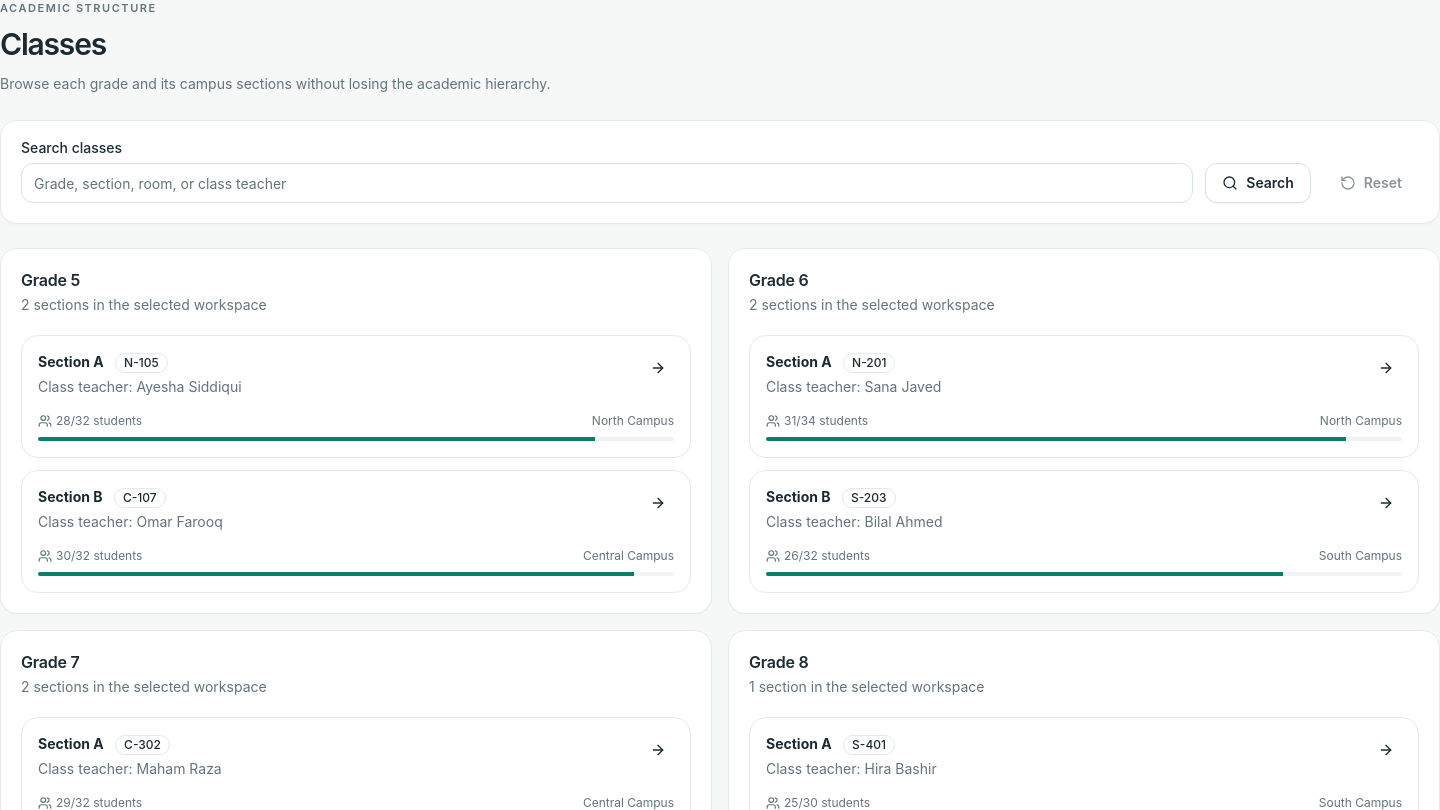
Test: class hierarchy › groups sections beneath their grade and supports search
Expected: the text "Grade 5" is shown, [21, 270, 80, 290]
Expected: the text "Section A" is shown, [38, 354, 168, 374]
Type "N-501" into the field labelled "Search classes" at (607, 184), box [21, 164, 1193, 204]
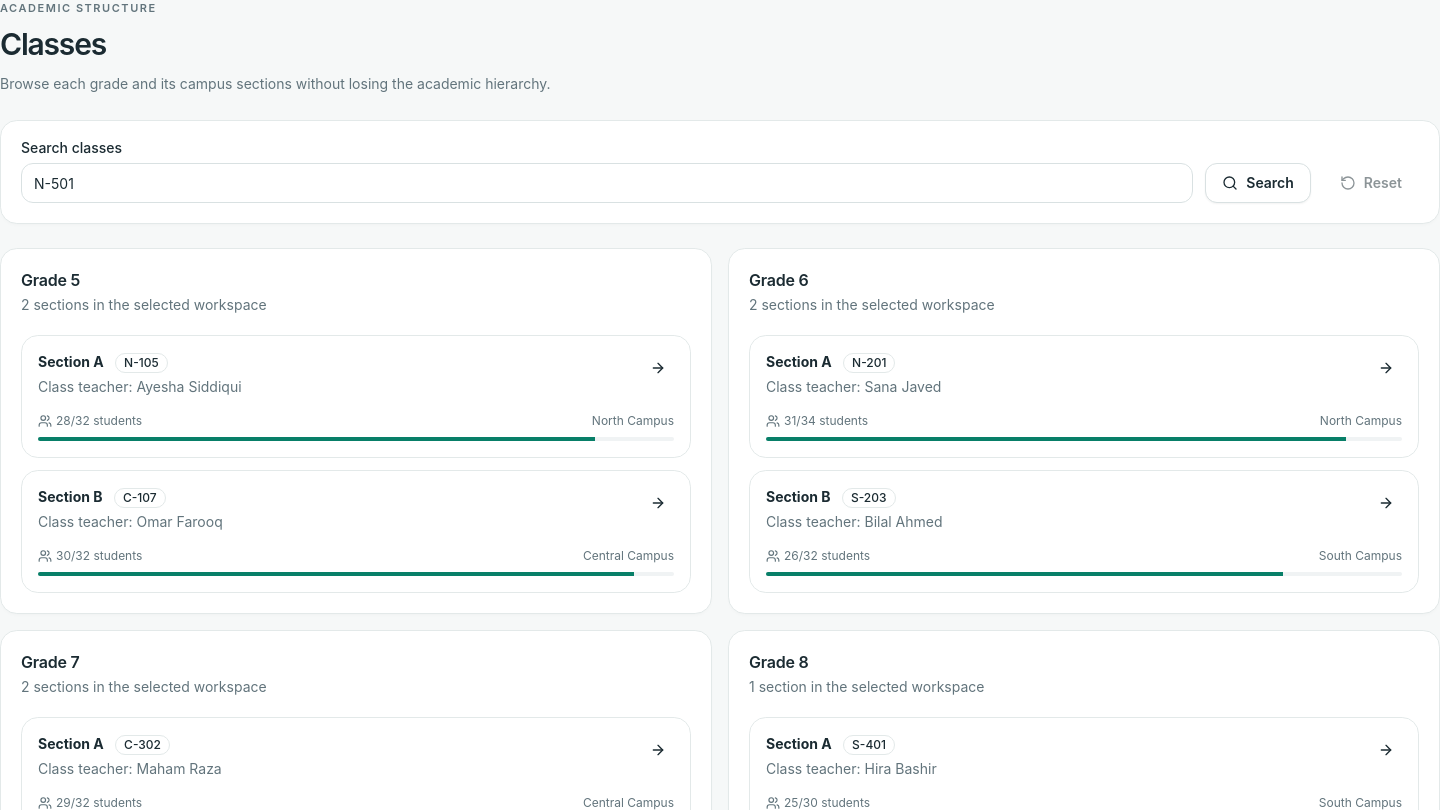
Click the button "Search" at (1258, 184), box [1205, 164, 1311, 204]
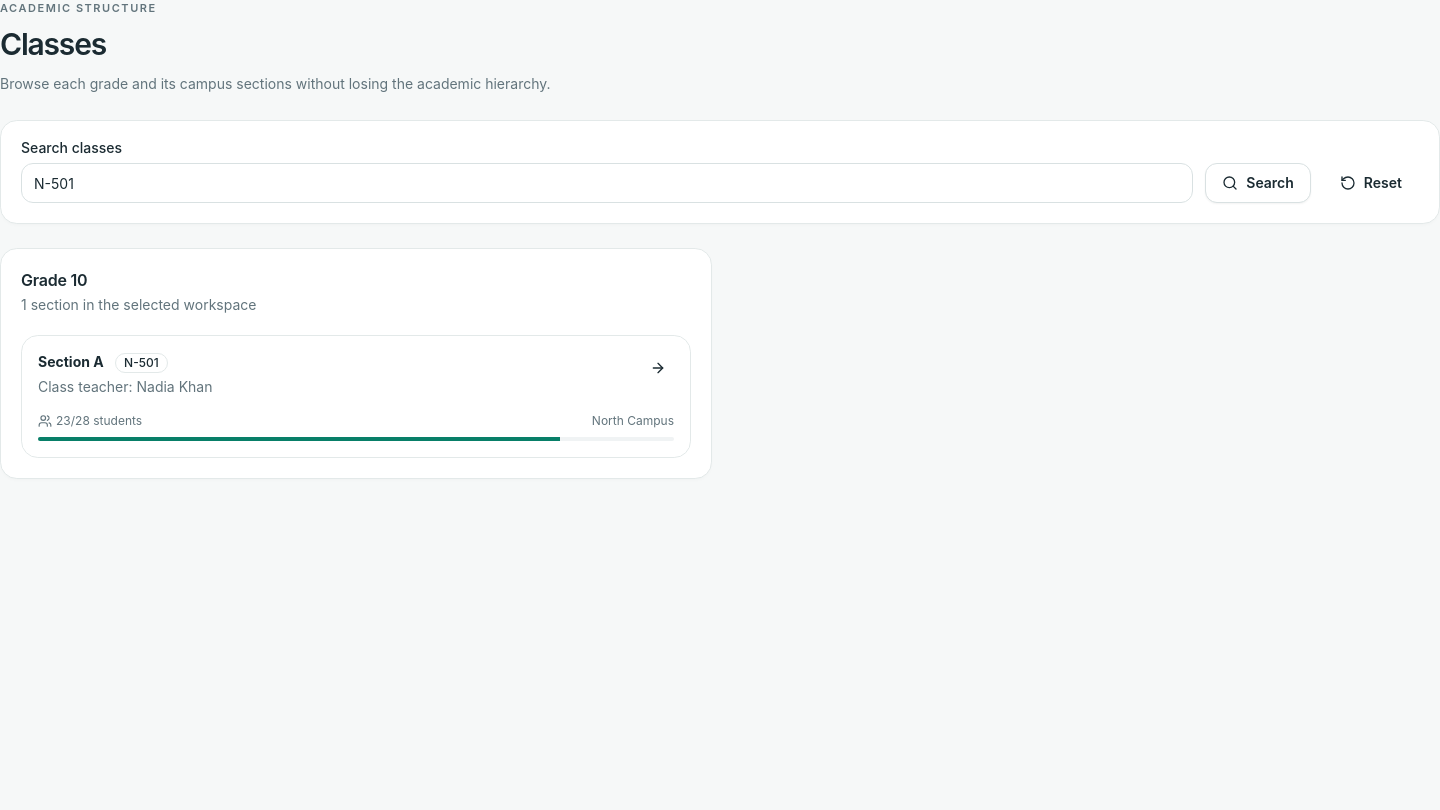
Expected: the text "Grade 10" is shown, [21, 270, 87, 290]
Expected: the text "Section B" is gone
